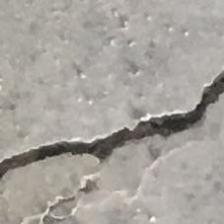Crack: (0, 78, 224, 215)
